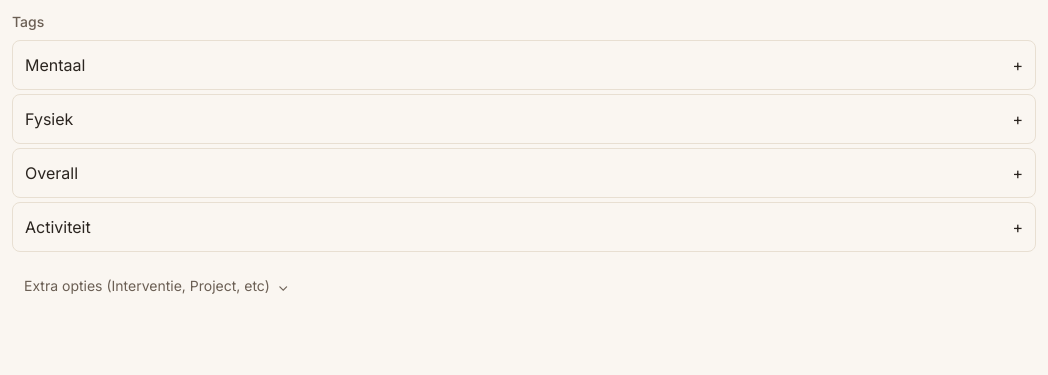
Test: <TagCategoryList /> › tapping a category header expands its chips inline; aria-expanded flips
Click the button "fysiek +": (49, 119) [12,94,1036,144]
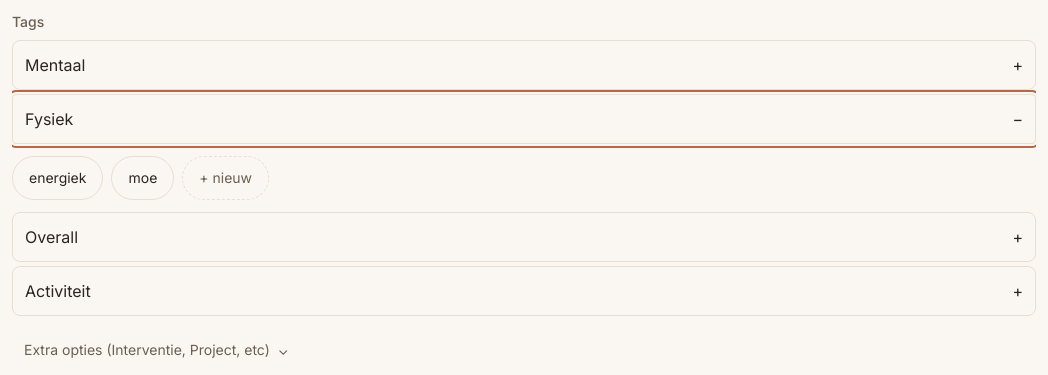
Now the button "moe" is shown, box [112,156,174,200]
Now the button "energiek" is shown, box [12,156,104,200]
